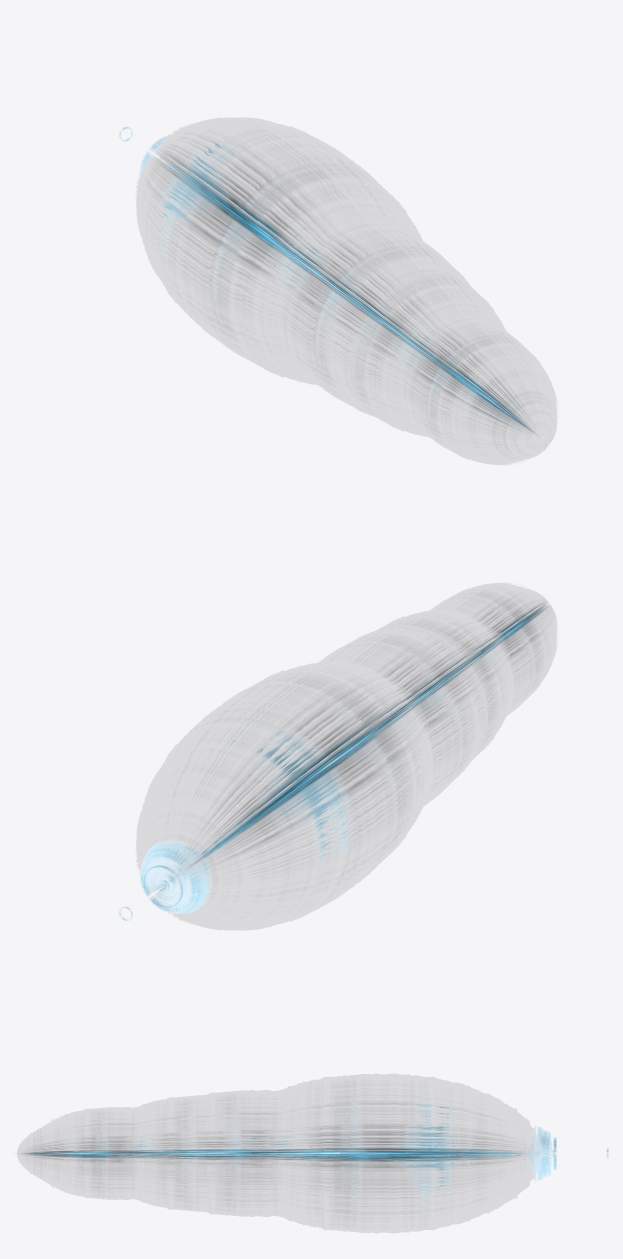
Rendered from jet pack.glb.
The picture shows the model from 3 angles, top to bottom: view 1: azimuth 30°, elevation 25°; view 2: azimuth 150°, elevation 25°; view 3: azimuth 270°, elevation 25°; orthographic projection. The views are drawn at different scales.
Visible parts, largest first — view 1: fire vfx.004, fire vfx.001, fire vfx.003, fire vfx.002; view 2: fire vfx.004, fire vfx.003, fire vfx.001, fire vfx.002; view 3: fire vfx.004, fire vfx.003, fire vfx.001, fire vfx.002.
Boxes of the visible parts, bbox=[...] form: fire vfx.004: bbox=[119, 127, 387, 367]; fire vfx.001: bbox=[404, 319, 553, 458]; fire vfx.003: bbox=[283, 224, 451, 392]; fire vfx.002: bbox=[322, 270, 478, 412]; fire vfx.004: bbox=[119, 670, 423, 920]; fire vfx.003: bbox=[309, 634, 474, 791]; fire vfx.001: bbox=[439, 590, 553, 700]; fire vfx.002: bbox=[378, 618, 506, 742]; fire vfx.004: bbox=[222, 1080, 608, 1227]; fire vfx.003: bbox=[136, 1095, 369, 1211]; fire vfx.001: bbox=[18, 1111, 158, 1196]; fire vfx.002: bbox=[95, 1100, 268, 1207].
Size of the model in its own units: 138 by 138 by 452.
1 material, 1 textured.
